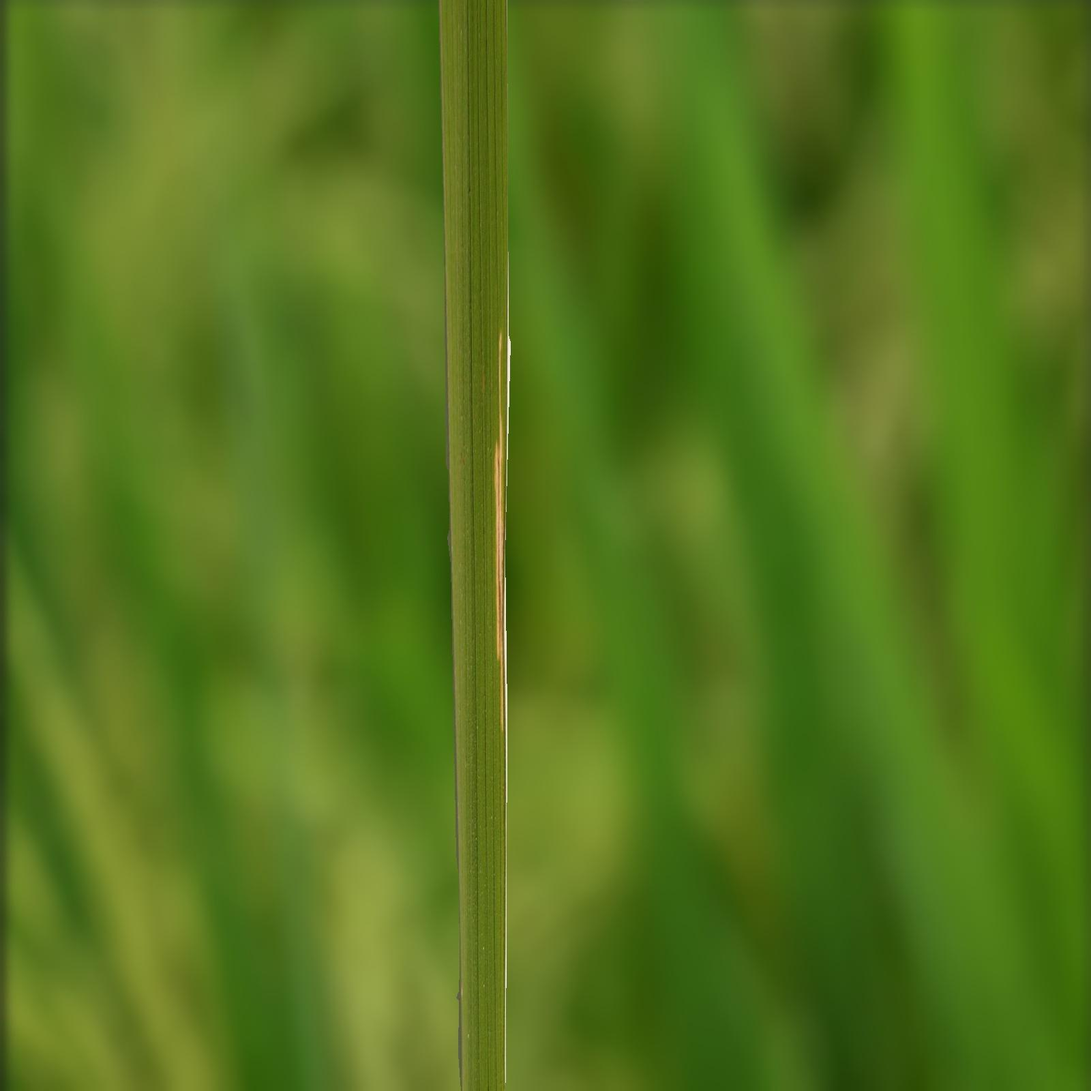BLS: (493, 331, 506, 733)
LEAF: (438, 0, 510, 1090)
